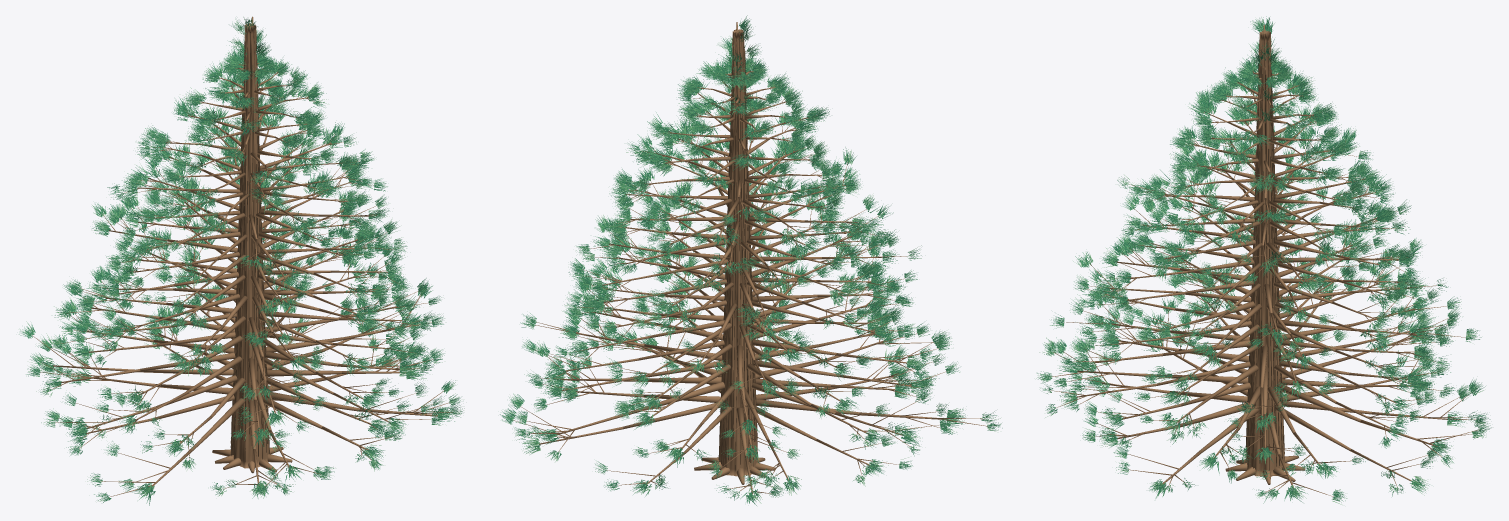
Rendered from realistic_large_pine.glb.
The picture shows the model from 3 angles, left to right: view 1: azimuth 30°, elevation 25°; view 2: azimuth 150°, elevation 25°; view 3: azimuth 270°, elevation 25°; orthographic projection.
Visible parts, largest first — view 1: RealisticPineTrunk; view 2: RealisticPineTrunk; view 3: RealisticPineTrunk, PrimaryBranch01_05A.
Part boxes in pixels (box(x1,y1,x2,y2)): RealisticPineTrunk: box(230, 23, 269, 468); RealisticPineTrunk: box(720, 29, 757, 476); RealisticPineTrunk: box(1246, 30, 1284, 476); PrimaryBranch01_05A: box(1277, 383, 1361, 422).
Size of the model in its own units: 17.93 by 18.64 by 17.29.
